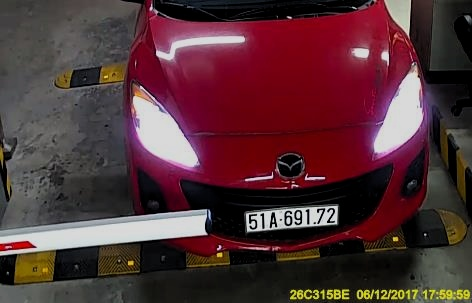plate: (238, 197, 342, 233)
